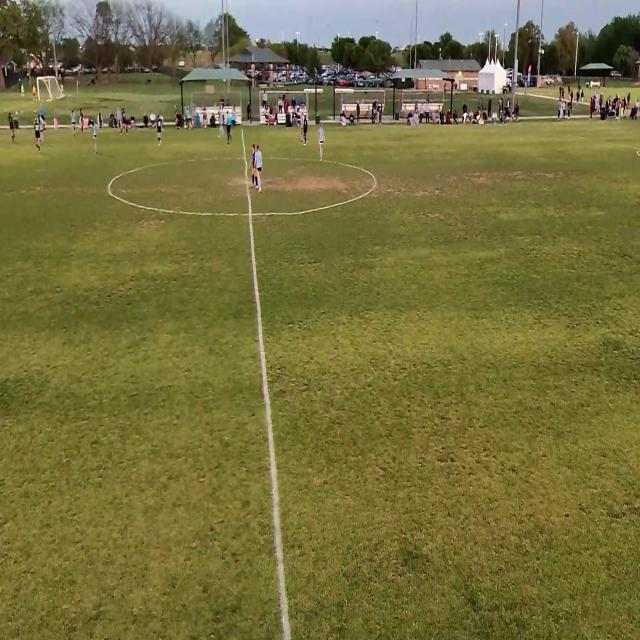ball: (184, 124, 187, 130)
team1: (8, 111, 16, 145), (302, 115, 309, 147), (34, 118, 40, 154), (158, 114, 164, 146), (250, 143, 254, 190), (122, 107, 128, 137), (174, 104, 180, 130), (79, 108, 85, 132)
team2: (254, 144, 265, 192), (316, 122, 324, 161), (92, 120, 100, 154), (216, 110, 225, 138), (39, 115, 45, 146), (186, 107, 193, 131), (70, 112, 76, 137), (116, 107, 122, 132)
